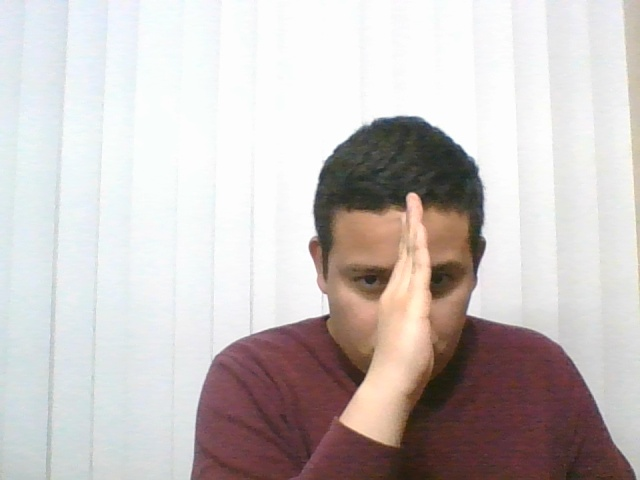God: (277, 173, 524, 434)
